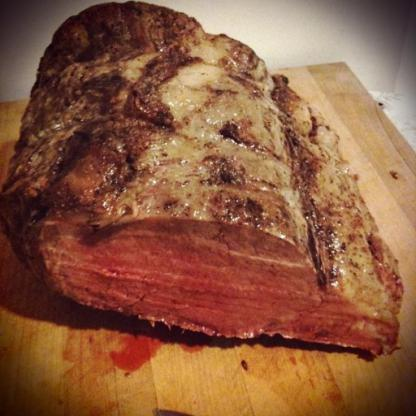beef: (15, 6, 404, 364)
